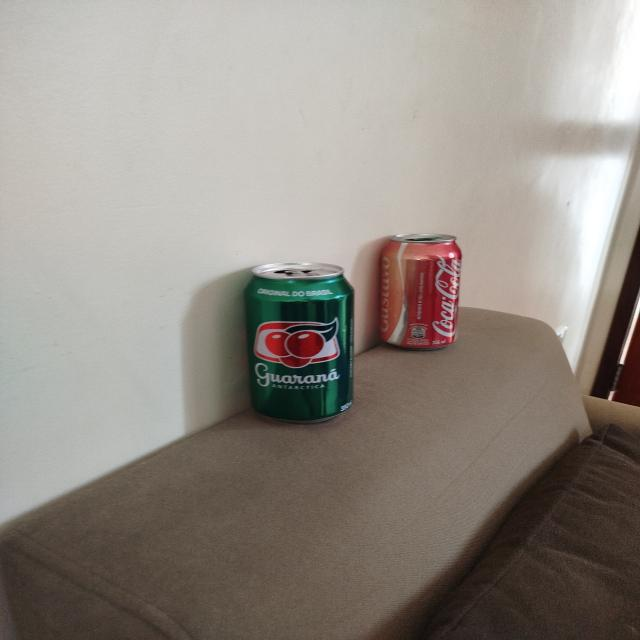Coca Cola: (379, 234, 462, 352)
Guarana: (245, 262, 358, 424)
